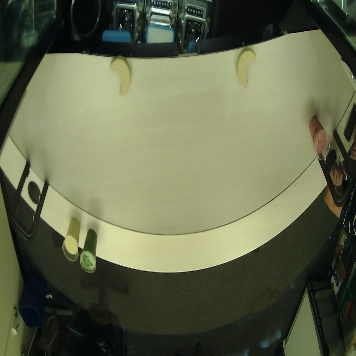full_cup: (308, 116, 332, 155), (80, 229, 98, 273), (62, 217, 80, 261)
puck: (109, 55, 131, 97), (236, 48, 256, 86)
